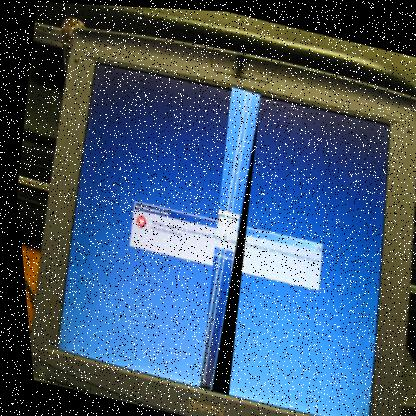lines: (171, 81, 281, 396)
